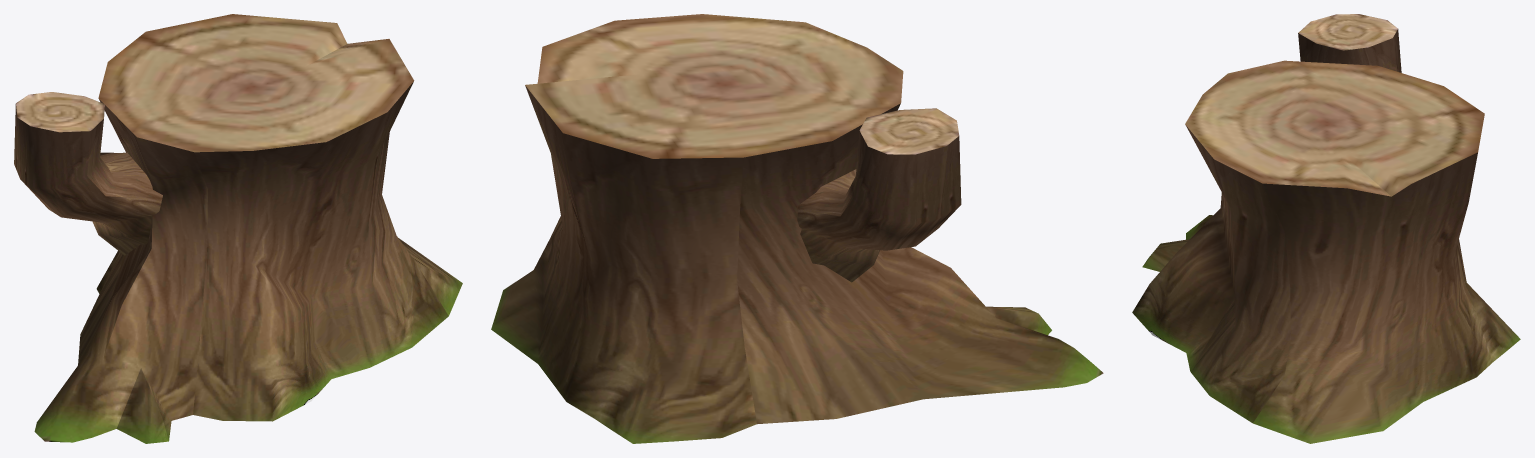
Rendered from map_112_shu_8.fbx.
3 renders of one model, left to right at view 1: azimuth 30°, elevation 25°; view 2: azimuth 150°, elevation 25°; view 3: azimuth 270°, elevation 25°, orthographic. The views are drawn at different scales.
Visible parts, largest first — view 1: map_112_shu_8; view 2: map_112_shu_8; view 3: map_112_shu_8.
Boxes of the visible parts, x1=… form: map_112_shu_8: x1=14, y1=14, x2=462, y2=443; map_112_shu_8: x1=491, y1=14, x2=1103, y2=443; map_112_shu_8: x1=1132, y1=14, x2=1520, y2=443.
Bounding box in the file's own units: 0.912 × 0.4565 × 0.6814.
